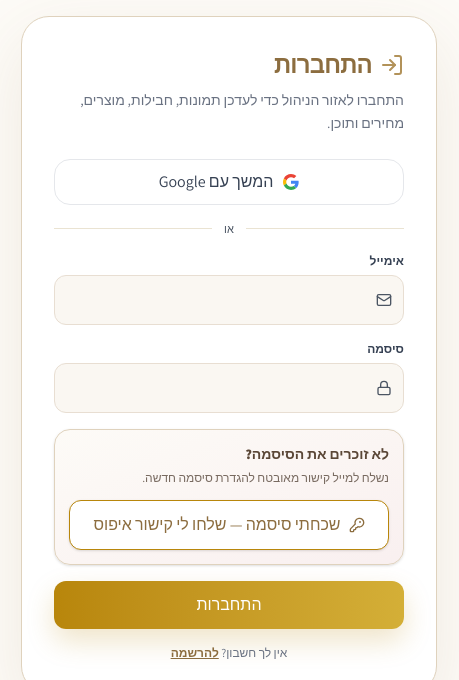
Test: LoginPage › sends a password reset email and shows confirmation
Click the button "שכחתי סיסמה — שלחו לי קישור איפוס" at (229, 524), box top-left (69, 500), bottom-right (389, 550)
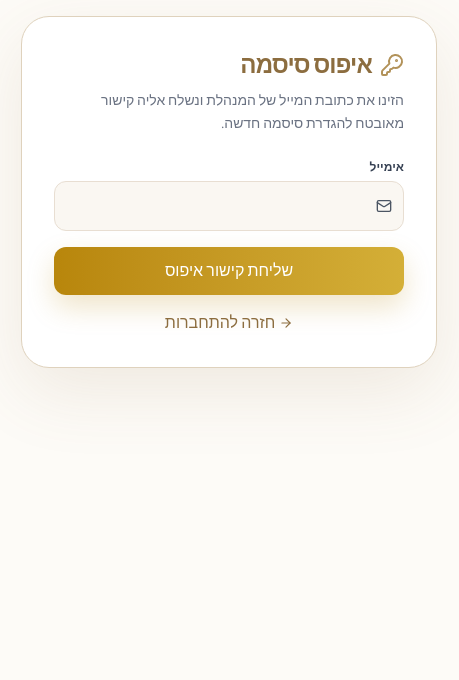
Type " admin@example.com " into the field labelled "אימייל" at (229, 206), box top-left (54, 180), bottom-right (404, 230)
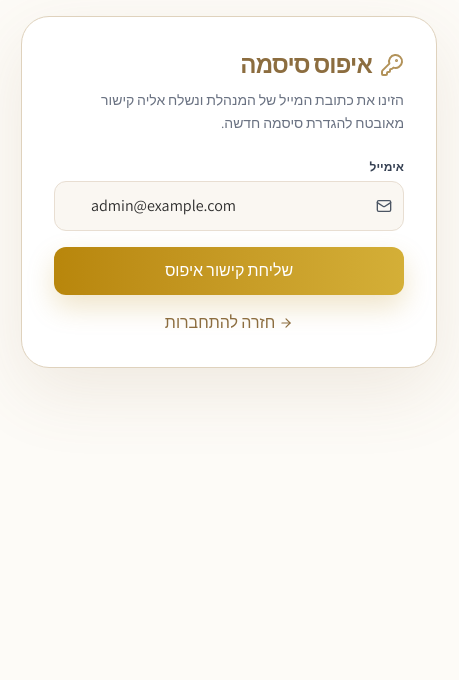
Click the button "שליחת קישור איפוס" at (229, 270), box top-left (54, 246), bottom-right (404, 294)
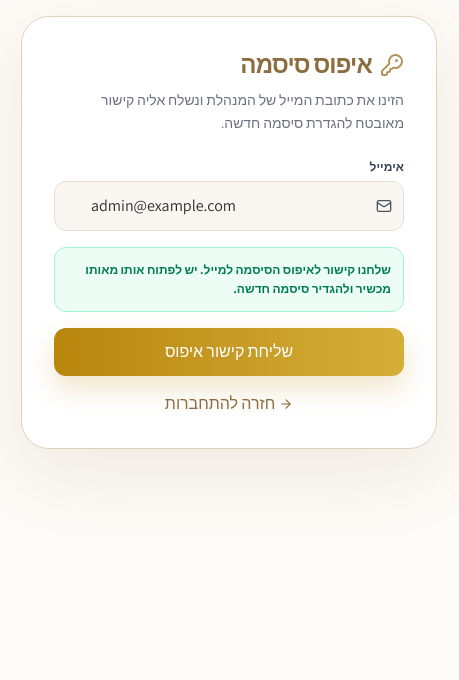
Result: the message shows "שלחנו קישור" at top-left (85, 262), bottom-right (391, 296)
